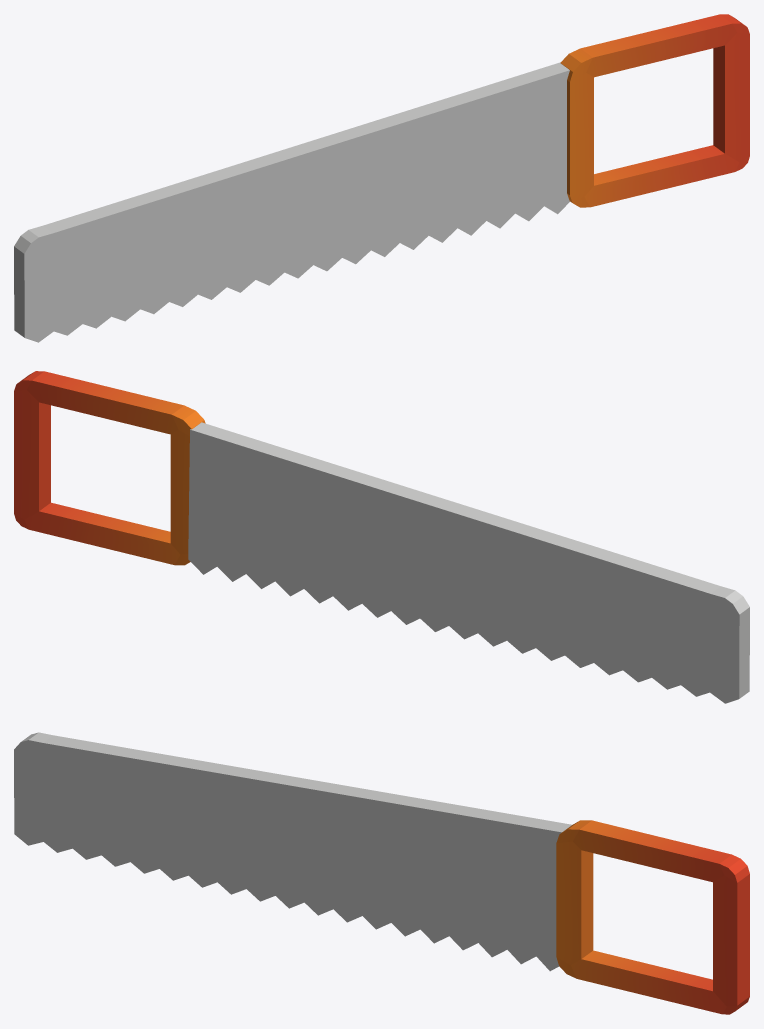
File: testere_4.fbx
3 views of the same model, one above another, from view 1: azimuth 30°, elevation 25°; view 2: azimuth 150°, elevation 25°; view 3: azimuth 330°, elevation 25° (orthographic).
Parts seen in each view (by area): view 1: testere; view 2: testere; view 3: testere.
Part boxes in pixels (x1,y1,x2,y2): testere: (14,14,749,342); testere: (14,371,749,703); testere: (14,732,749,1014).
Size of the model in its own units: 803 by 162 by 25.62.
Materials: 1 (1 with a texture image).
